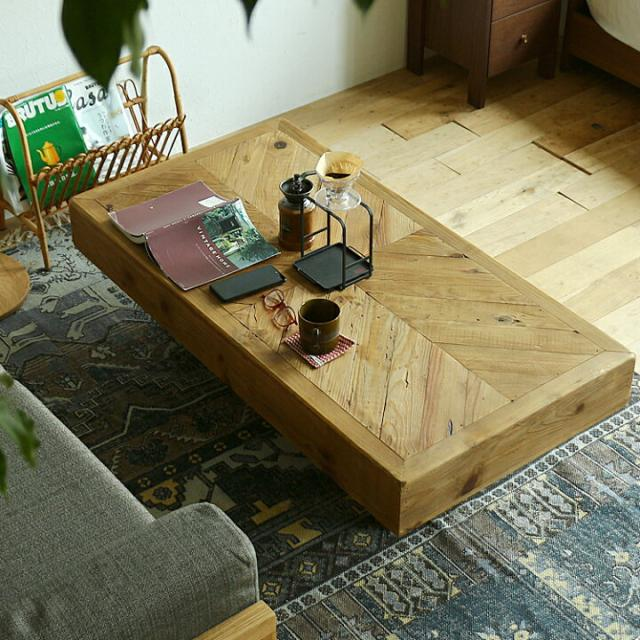vintage desk: (68, 112, 627, 526)
